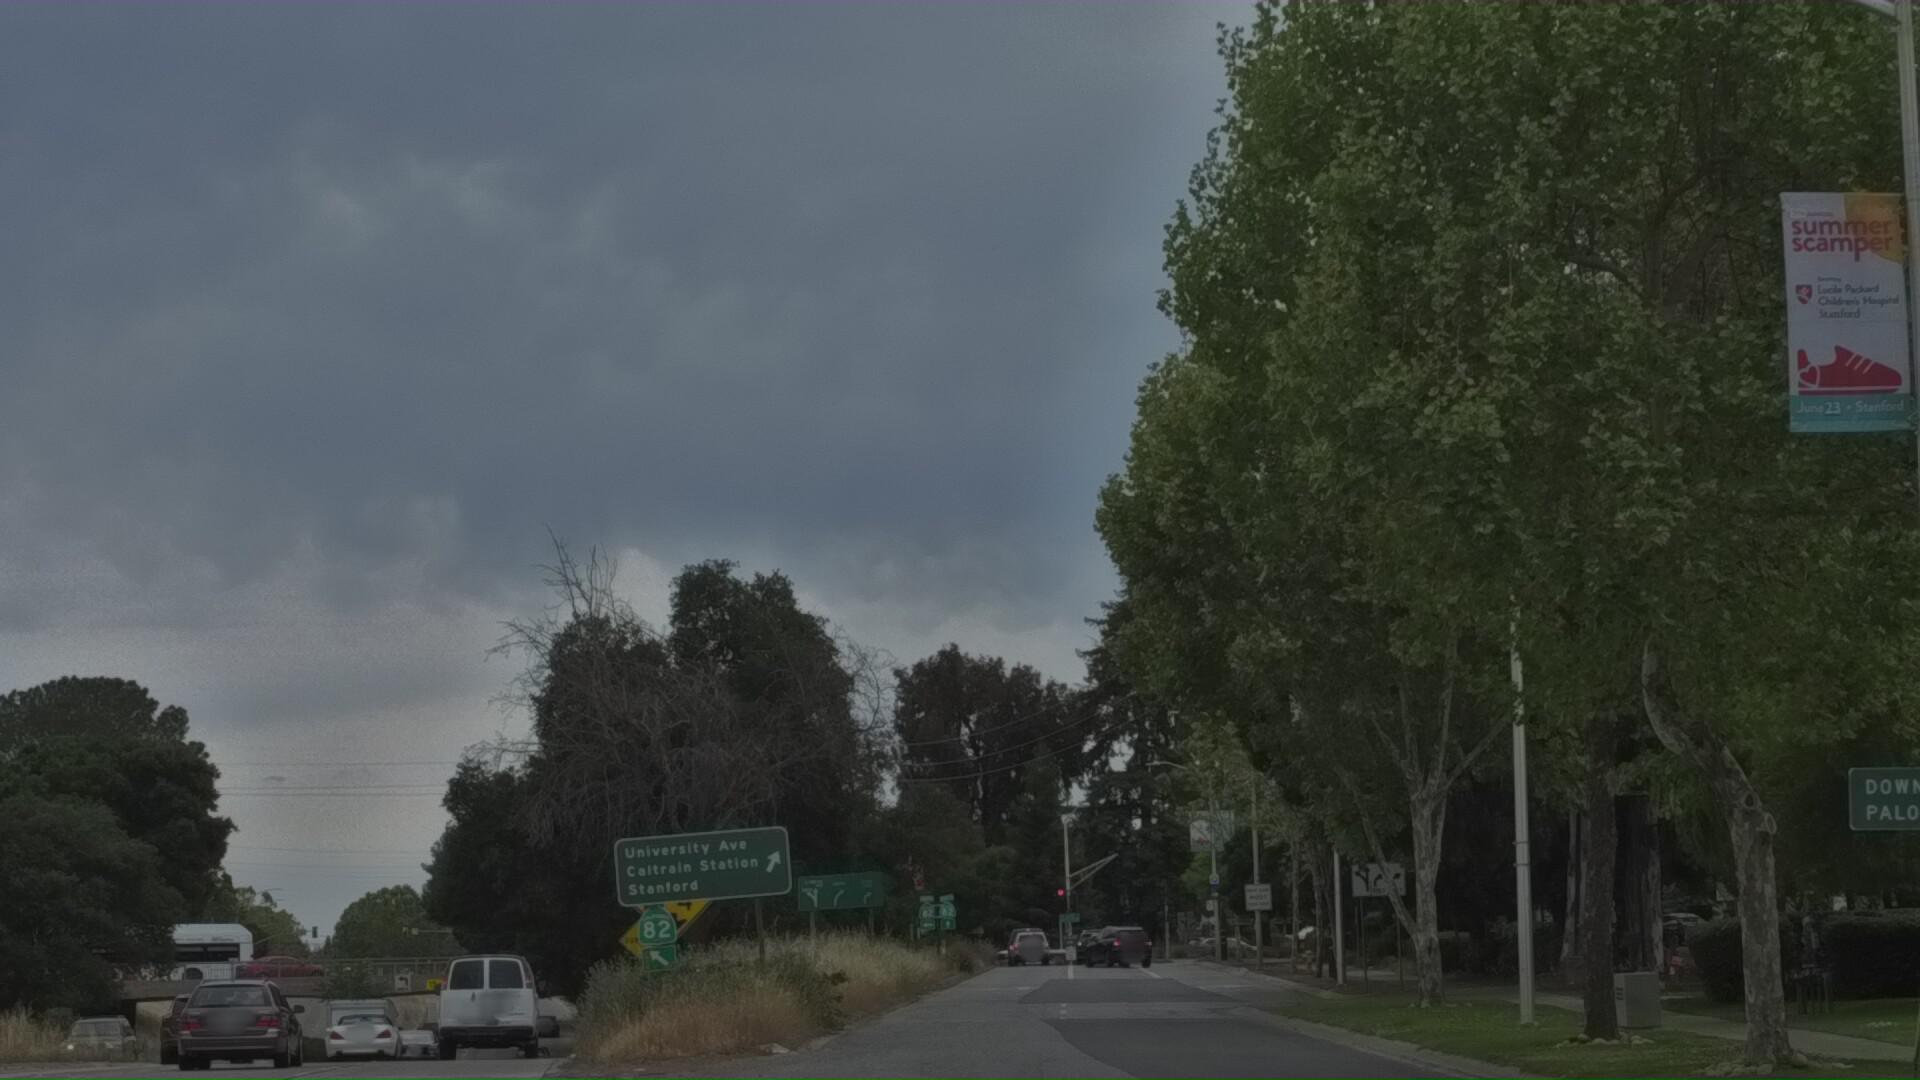car: (173, 1015, 311, 1080), (149, 1022, 251, 1080)
truck: (439, 976, 564, 1080)
